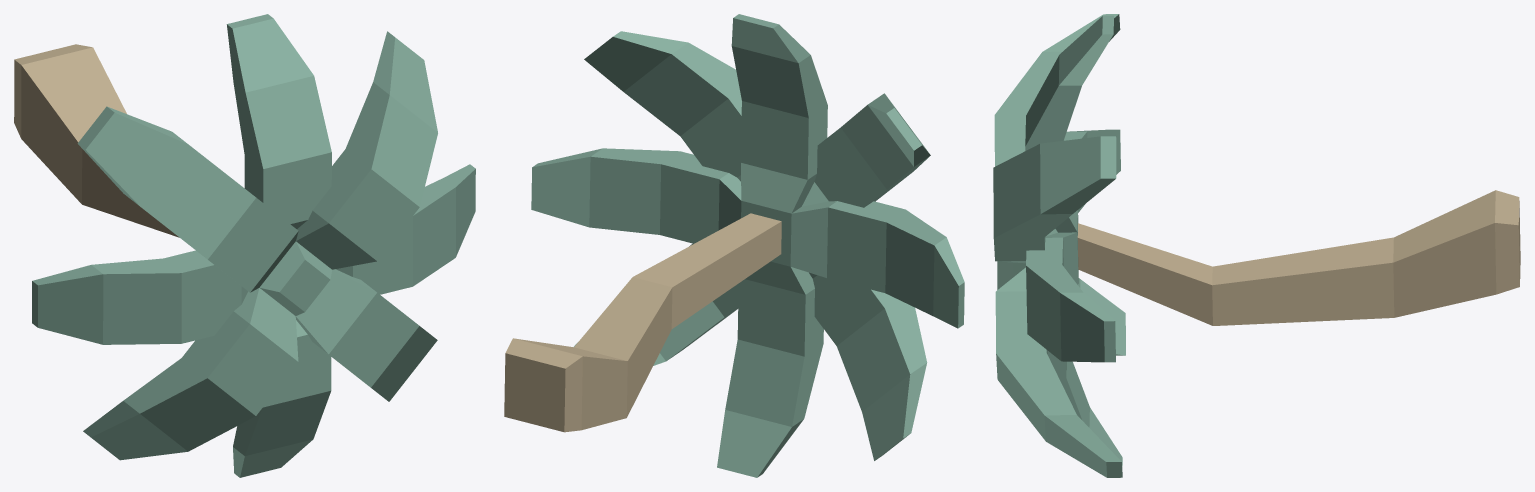
3 views of the same model, side by side, from view 1: azimuth 30°, elevation 25°; view 2: azimuth 150°, elevation 25°; view 3: azimuth 270°, elevation 25° (orthographic). The views are drawn at different scales.
Parts seen in each view (by area): view 1: Mesh2 Group3 Group1 Model; view 2: Mesh2 Group3 Group1 Model; view 3: Mesh2 Group3 Group1 Model.
Part boxes in pixels (<box>): Mesh2 Group3 Group1 Model: <box>14,14,475,477</box>; Mesh2 Group3 Group1 Model: <box>504,14,964,477</box>; Mesh2 Group3 Group1 Model: <box>993,14,1520,477</box>.
Bounding box in the file's own units: 309 × 338 × 309.
